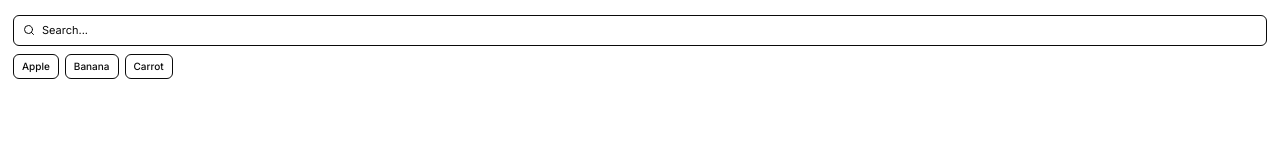
Test: ChipMultiSelect › typing filters case-insensitively
The image size is (1280, 160).
In the field with placeholder "Search...": [640, 30] box [13, 15, 1267, 46], type "ban"
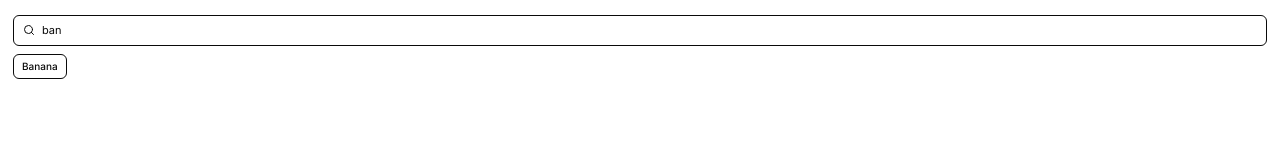
Expected: the number of buttons is 1, [13, 54, 67, 78]
